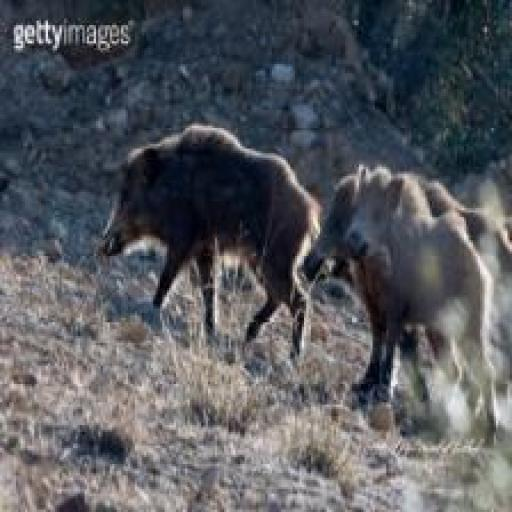Pig: (98, 117, 321, 378)
